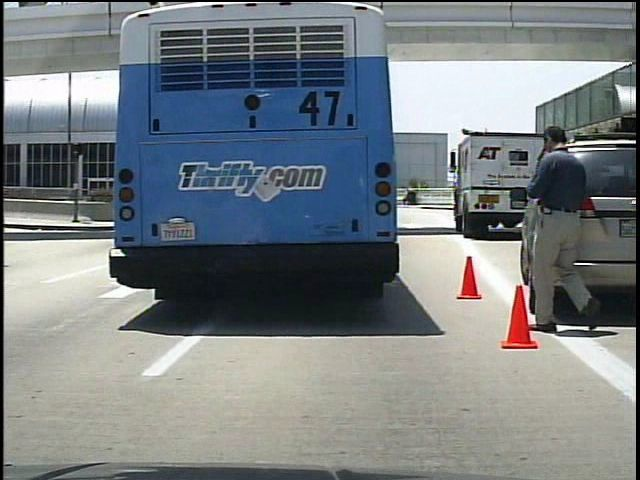person: (513, 117, 605, 342)
